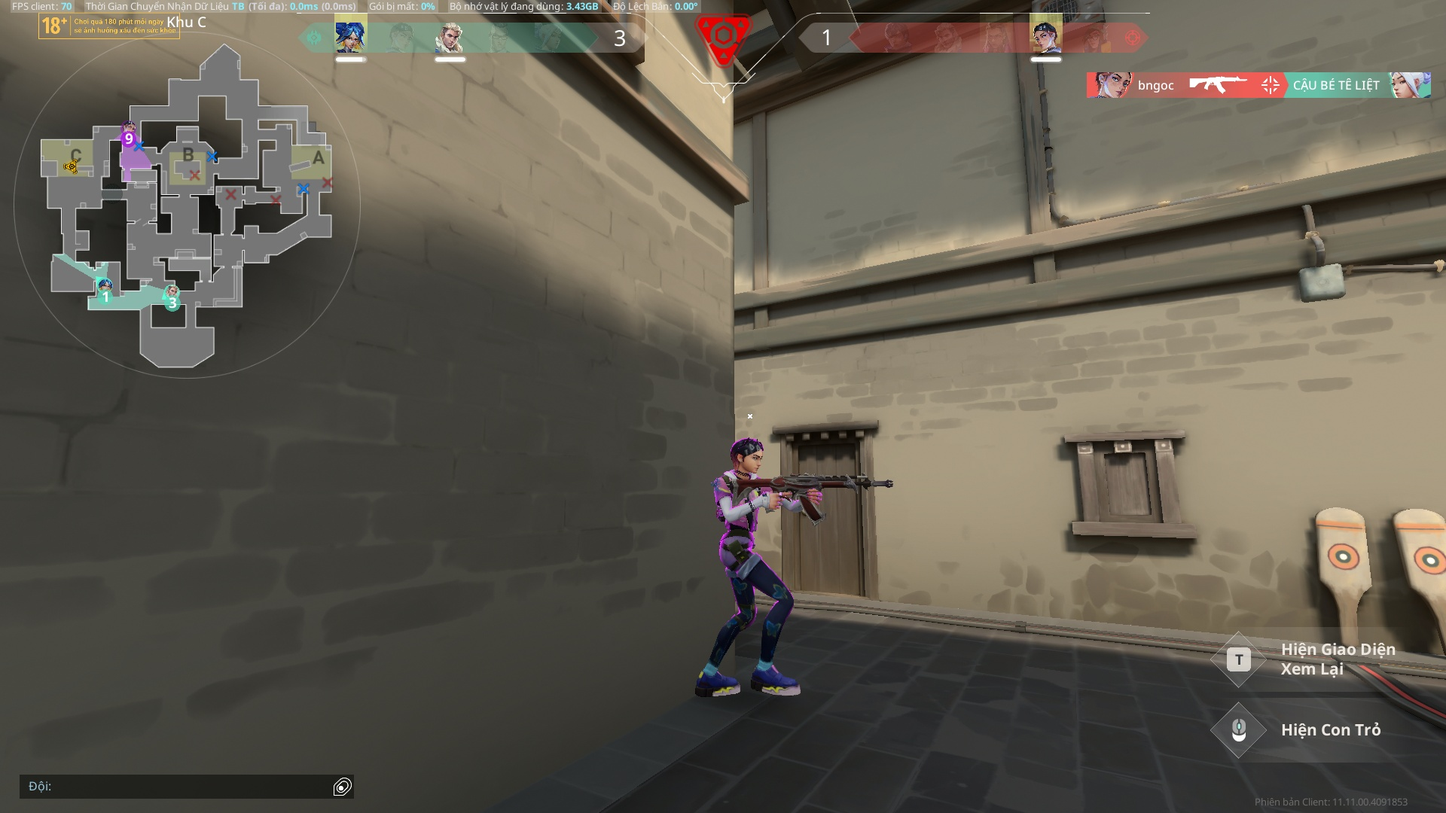body: (716, 468, 765, 531)
head: (733, 437, 766, 475)
